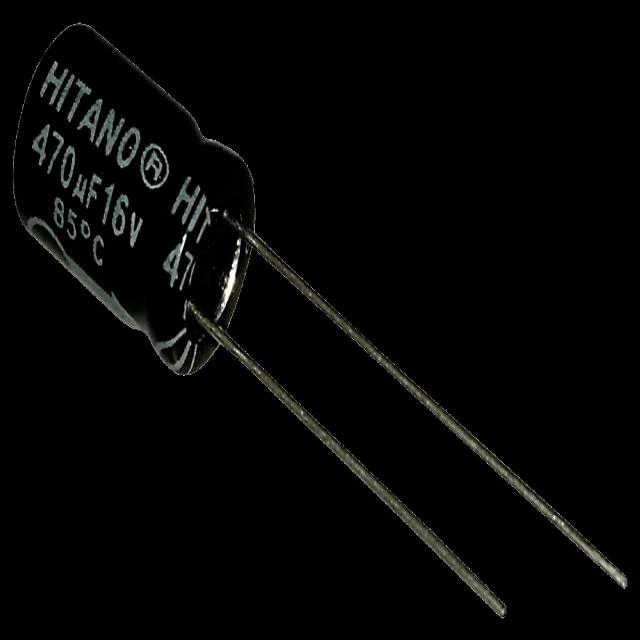Capacitor: (11, 24, 634, 626)
